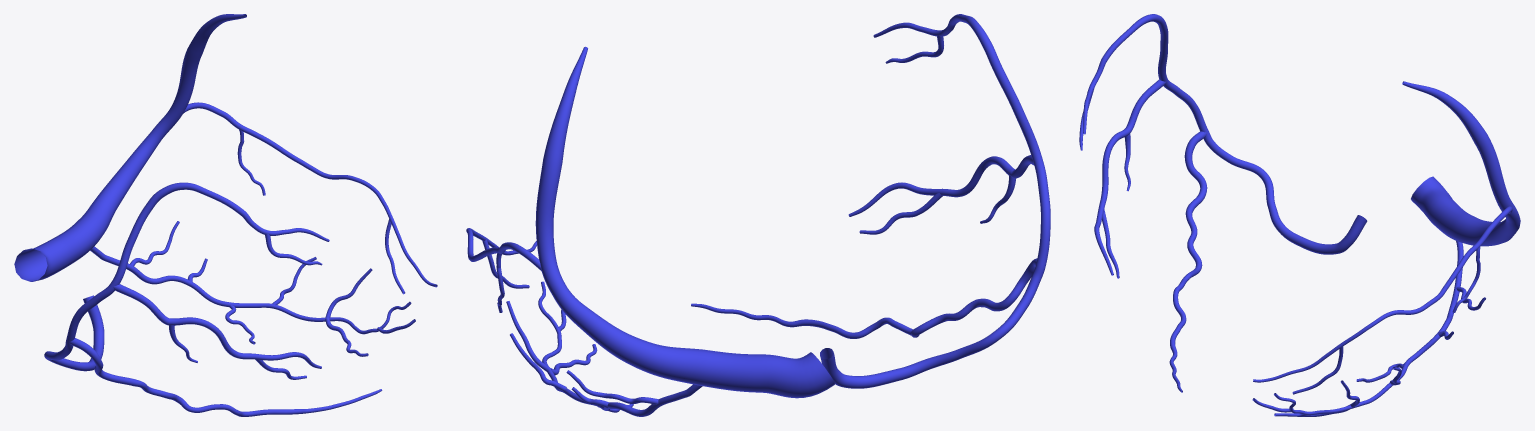
File: blueoutervessel.glb
3 views of the same model, side by side, from view 1: azimuth 30°, elevation 25°; view 2: azimuth 150°, elevation 25°; view 3: azimuth 270°, elevation 25° (orthographic). The views are drawn at different scales.
Parts seen in each view (by area): view 1: c1.007; view 2: c1.007; view 3: c1.007.
Part boxes in pixels (box(x1,y1,x2,y2)): c1.007: box(14, 14, 437, 416); c1.007: box(466, 14, 1050, 416); c1.007: box(1079, 14, 1520, 416).
Size of the model in its own units: 3.12 by 2.35 by 3.03.
